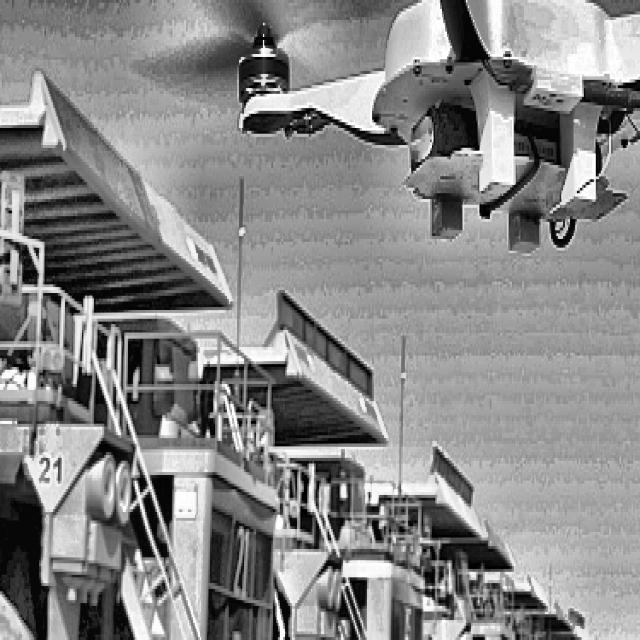dump_truck: (0, 62, 278, 640), (242, 301, 428, 640), (413, 458, 515, 640), (510, 557, 547, 640), (551, 586, 582, 640)
